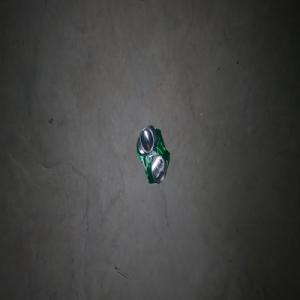SodaCan: (136, 123, 169, 183)
